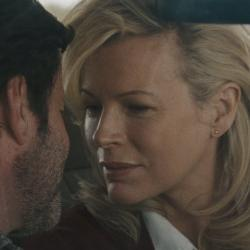face: (60, 3, 246, 230)
